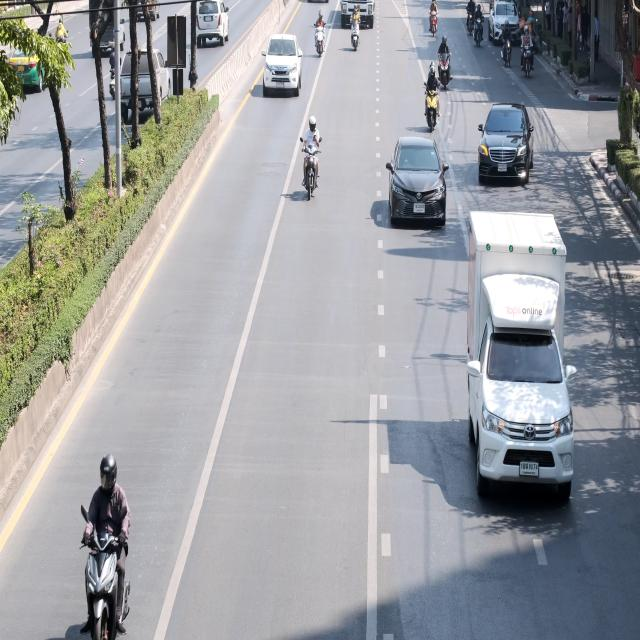cars: (459, 202, 590, 534), (383, 131, 454, 252), (473, 96, 550, 203), (114, 37, 178, 141), (0, 22, 64, 100), (262, 24, 302, 100), (191, 0, 239, 51), (487, 0, 524, 49), (336, 0, 386, 30), (125, 0, 164, 31)
motorcycle: (72, 434, 139, 640), (299, 107, 330, 216), (421, 60, 443, 134), (53, 15, 76, 69), (435, 34, 456, 90), (106, 36, 120, 111), (348, 5, 368, 57), (520, 23, 538, 78), (313, 10, 330, 63), (498, 15, 514, 70), (472, 3, 486, 56), (426, 2, 442, 32), (462, 0, 474, 40)
